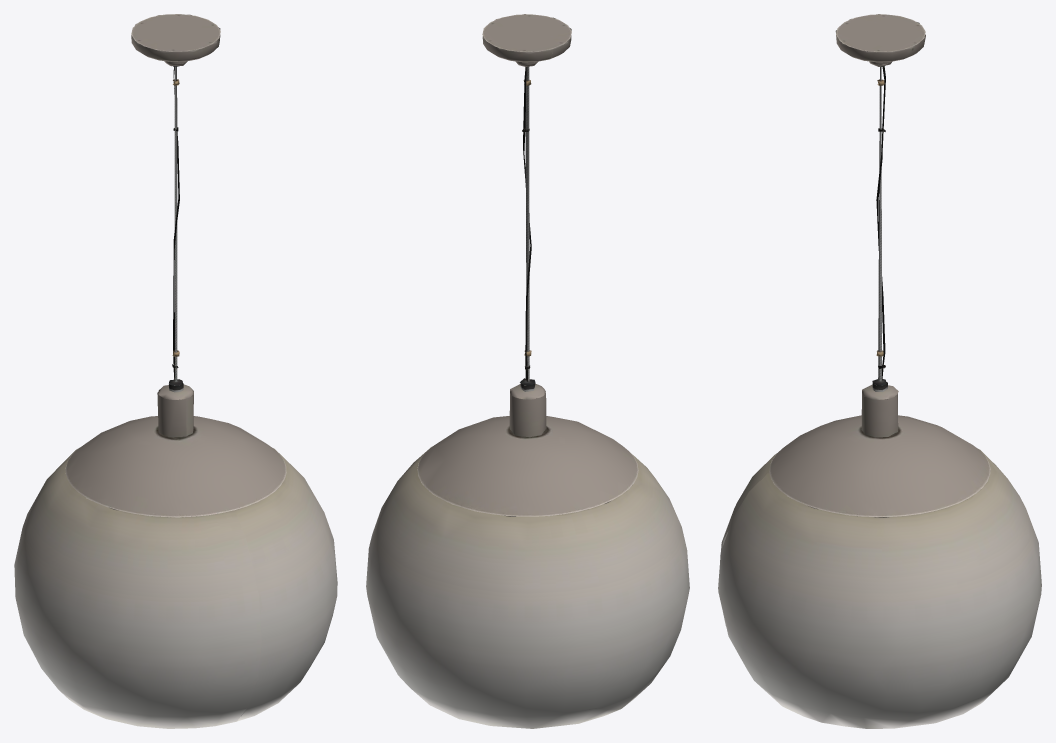
Rendered from modern_ceiling_lamp_01.glb.
The picture shows the model from 3 angles, left to right: view 1: azimuth 30°, elevation 25°; view 2: azimuth 150°, elevation 25°; view 3: azimuth 270°, elevation 25°; orthographic projection.
Parts seen in each view (by area): view 1: modern_ceiling_lamp_01; view 2: modern_ceiling_lamp_01; view 3: modern_ceiling_lamp_01.
Boxes of the visible parts, box(x1,y1,x2,y2) form: modern_ceiling_lamp_01: box(14, 14, 337, 728); modern_ceiling_lamp_01: box(366, 14, 689, 728); modern_ceiling_lamp_01: box(718, 14, 1041, 728).
Size of the model in its own units: 0.4316 by 0.952 by 0.4317.
Materials: 3 (3 with a texture image).
